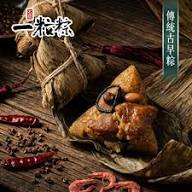zongzi: (69, 65, 157, 154), (32, 37, 106, 110)
